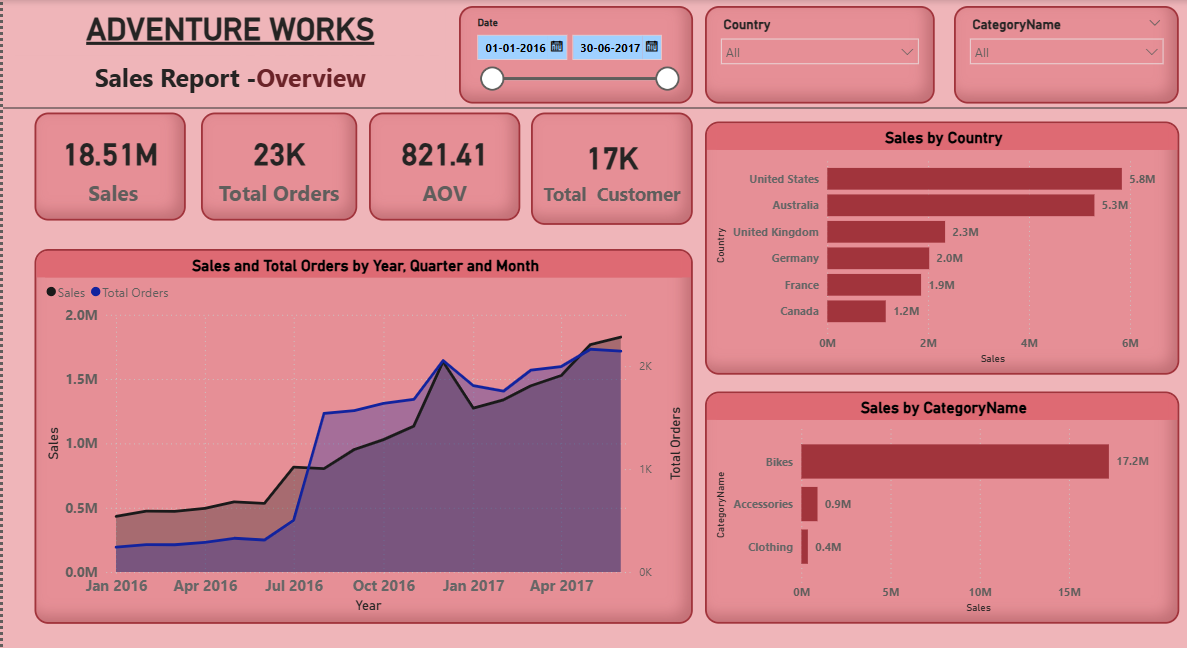

This screenshot's page, from the dashboard's own definition file:
{"tool":"powerbi","page":{"name":"Page 2","canvas":[1280,720],"ordinal":0},"visuals":[{"type":"slicer","fields":{"Values":["AW_Date.Date"]},"box":[492.2,6.5,252.6,105.2],"z":0},{"type":"slicer","fields":{"Values":["AW_Territory.Country"]},"box":[757.8,6.5,247.7,105.2],"z":1000},{"type":"slicer","fields":{"Values":["AW_Product_Category.CategoryName"]},"box":[1026.6,6.5,242.9,105.2],"z":2000},{"type":"textbox","box":[13,59.9,464.7,51.8],"z":3000},{"type":"shape","box":[0,102,1280,29.1],"z":4000},{"type":"card","fields":{"Values":["Sum(AW_Sales.Sales column)"]},"box":[34,121.4,163.5,116.6],"z":5000},{"type":"card","fields":{"Values":["AW_Sales.Total Orders"]},"box":[213.7,121.4,168.4,116.6],"z":6000},{"type":"card","fields":{"Values":["AW_Sales.AOV"]},"box":[395.1,121.4,163.5,116.6],"z":7000},{"type":"card","fields":{"Values":["AW_Customers.total customer"]},"box":[570,121.4,174.9,121.4],"z":8000},{"type":"clusteredBarChart","fields":{"Category":["AW_Territory.Country"],"Y":["AW_Sales.Sales"]},"box":[757.8,131.2,511.7,273.6],"z":9000},{"type":"clusteredBarChart","fields":{"Category":["AW_Product_Category.CategoryName"],"Y":["AW_Sales.Sales"]},"box":[757.8,422.6,511.7,251],"z":10000},{"type":"areaChart","fields":{"Category":["AW_Date.Date.Variation.Date Hierarchy.Year","AW_Date.Date.Variation.Date Hierarchy.Quarter","AW_Date.Date.Variation.Date Hierarchy.Month","AW_Date.Date.Variation.Date Hierarchy.Day"],"Y":["AW_Sales.Sales"],"Y2":["AW_Sales.Total Orders"]},"box":[34,268.8,710.8,404.8],"z":11000},{"type":"textbox","box":[13,6.5,464.7,48.6],"z":11001}]}

Visuals, with their boxes in screenshot pixels (x1, y1, x2, y2):
slicer - AW_Date.Date: (457, 3, 690, 100)
slicer - AW_Territory.Country: (702, 3, 930, 100)
slicer - AW_Product_Category.CategoryName: (949, 3, 1173, 100)
textbox: (15, 52, 443, 100)
shape: (3, 91, 1183, 118)
card - Sum(AW_Sales.Sales column): (34, 109, 185, 216)
card - AW_Sales.Total Orders: (200, 109, 355, 216)
card - AW_Sales.AOV: (367, 109, 518, 216)
card - AW_Customers.total customer: (529, 109, 690, 221)
clusteredBarChart - AW_Territory.Country x AW_Sales.Sales: (702, 118, 1173, 370)
clusteredBarChart - AW_Product_Category.CategoryName x AW_Sales.Sales: (702, 386, 1173, 618)
areaChart - AW_Date.Date.Variation.Date Hierarchy.Year x AW_Date.Date.Variation.Date Hierarchy.Quarter: (34, 245, 690, 618)
textbox: (15, 3, 443, 48)
